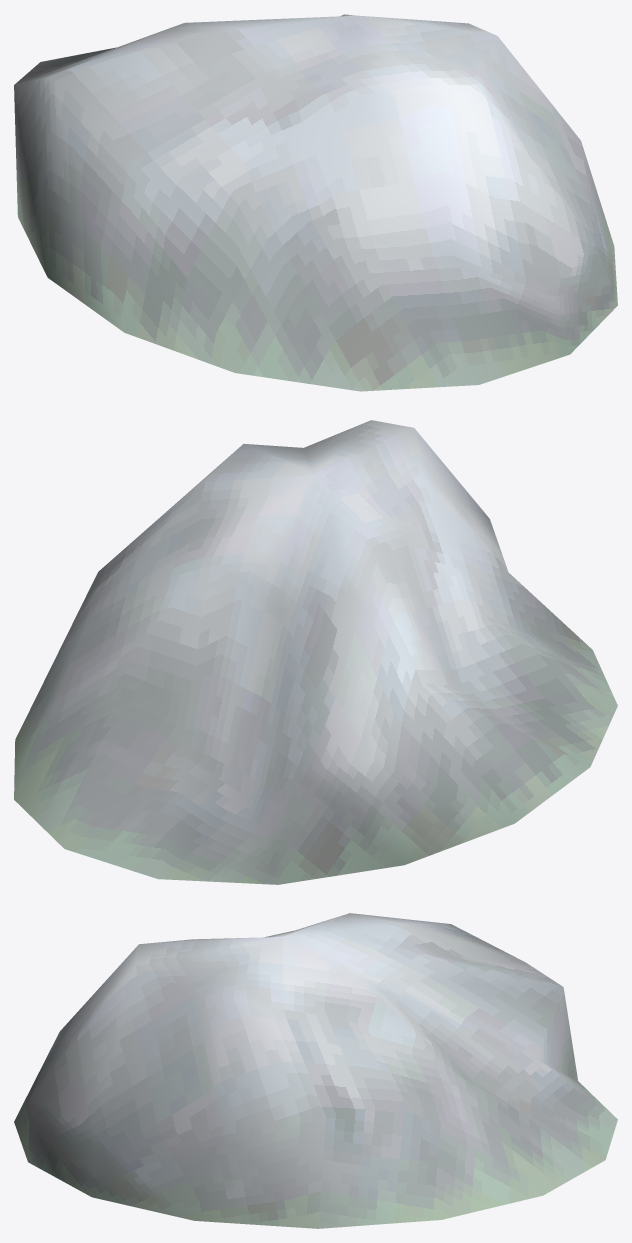
Rendered from TROLLHOLE02_STONEA19.fbx.
3 views of the same model, one above another, from view 1: azimuth 30°, elevation 25°; view 2: azimuth 150°, elevation 25°; view 3: azimuth 270°, elevation 25° (orthographic). The views are drawn at different scales.
Visible parts, largest first — view 1: TROLLHOLE02_STONEA19; view 2: TROLLHOLE02_STONEA19; view 3: TROLLHOLE02_STONEA19.
Part boxes in pixels (x1,y1,x2,y2): TROLLHOLE02_STONEA19: (14,14,617,391); TROLLHOLE02_STONEA19: (14,420,617,884); TROLLHOLE02_STONEA19: (14,913,617,1228).
Size of the model in its own units: 13397 by 6480 by 17626.
1 material, 1 textured.
